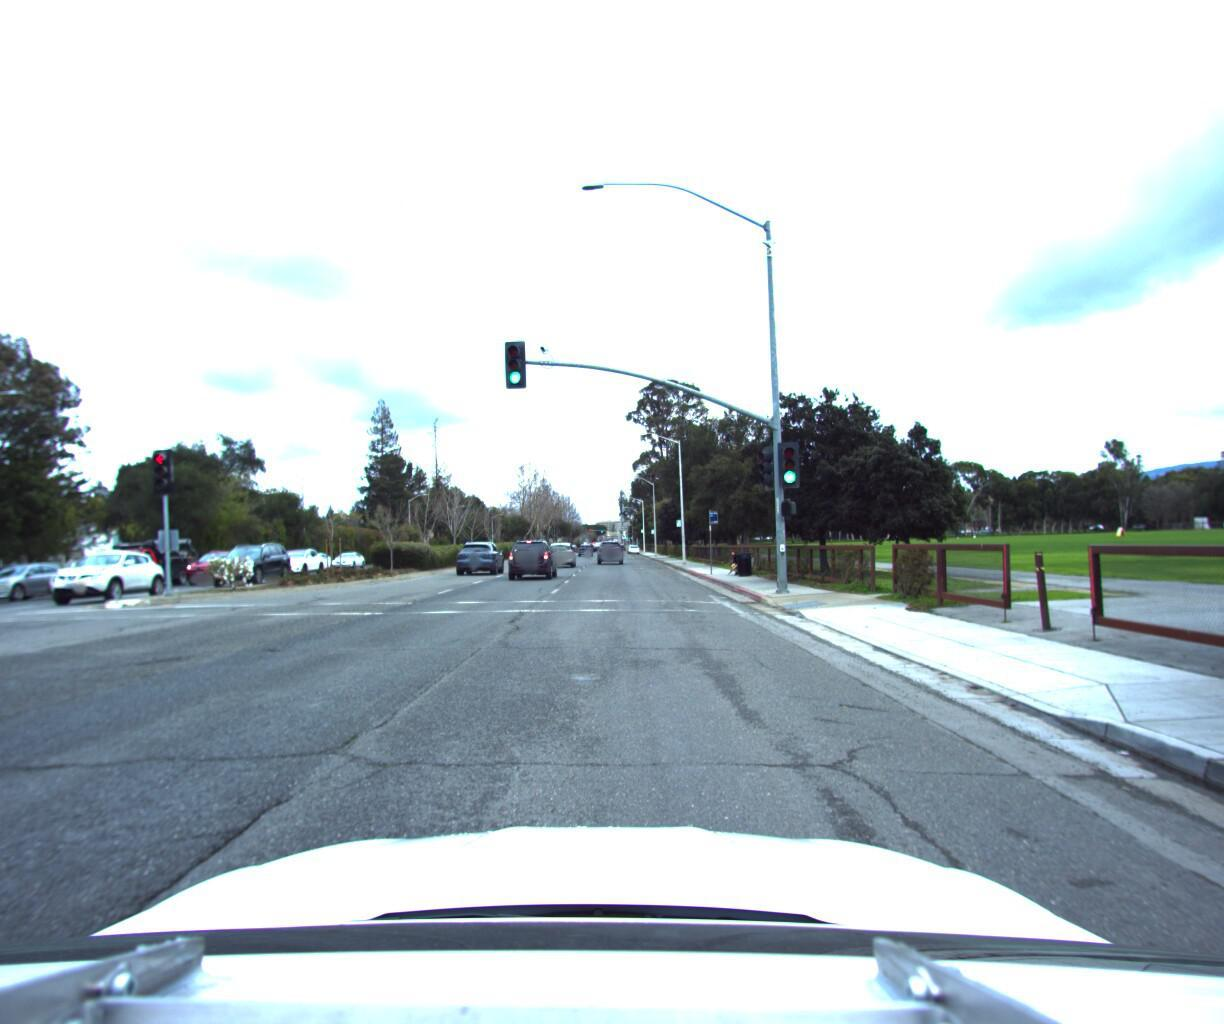car: (80, 540, 207, 598), (42, 554, 172, 609), (207, 549, 295, 593), (184, 552, 258, 591), (507, 543, 558, 586), (457, 545, 506, 581), (273, 556, 330, 584), (545, 548, 576, 574), (596, 545, 623, 571), (334, 561, 371, 580)
